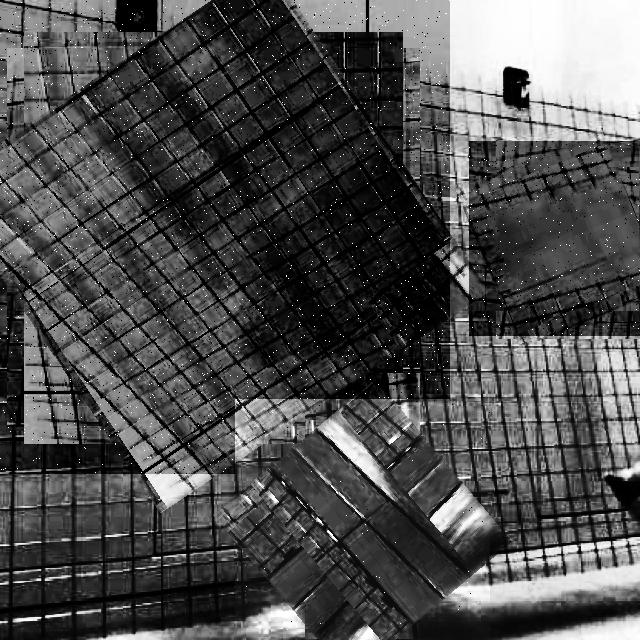anomaly-fence: (235, 399, 490, 640), (469, 141, 640, 336)
fences: (0, 0, 450, 474)
